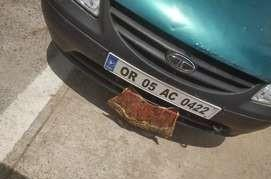OR05AC0422: (102, 50, 221, 119)
